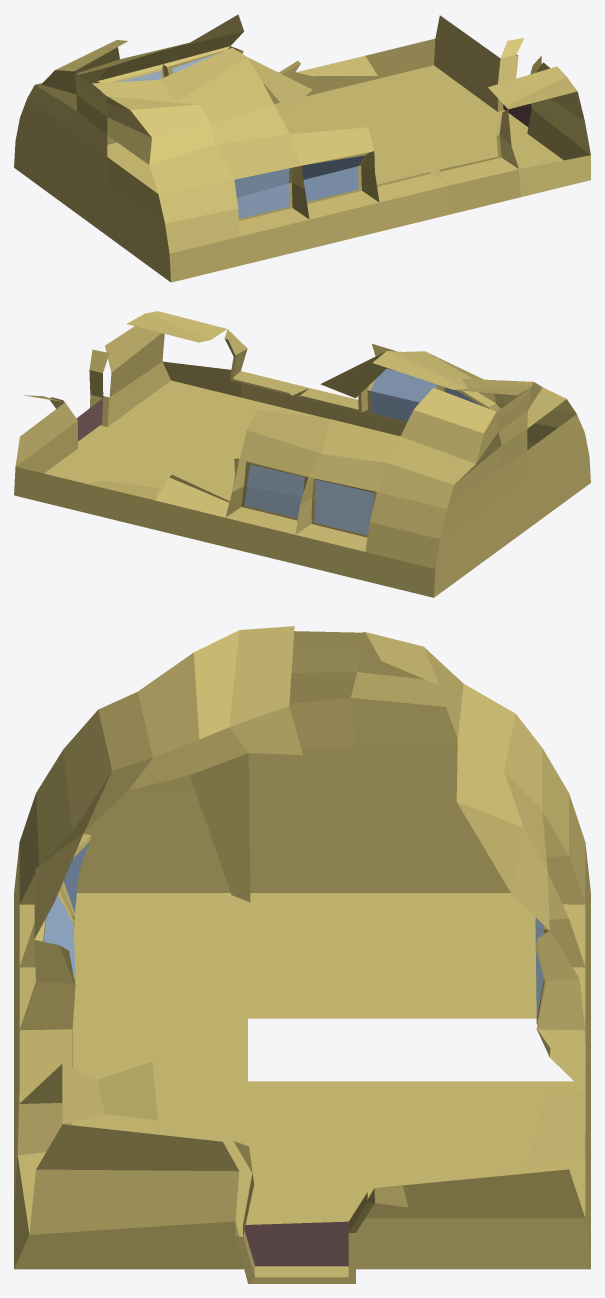
File: BarracksDestroyed1.fbx
3 renders of one model, top to bottom at view 1: azimuth 30°, elevation 25°; view 2: azimuth 150°, elevation 25°; view 3: azimuth 270°, elevation 25°, orthographic. The views are drawn at different scales.
Parts seen in each view (by area): view 1: Cylinder; view 2: Cylinder; view 3: Cylinder.
Boxes of the visible parts, x1,y1,x2,y2 form: Cylinder: [14, 14, 590, 282]; Cylinder: [14, 311, 590, 597]; Cylinder: [14, 626, 590, 1283].
Size of the model in its own units: 344 by 108 by 200.
